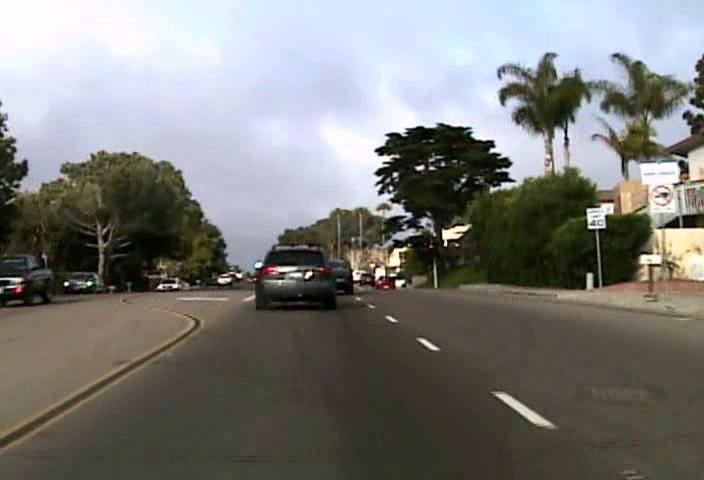speedLimit40: (586, 206, 606, 229)
